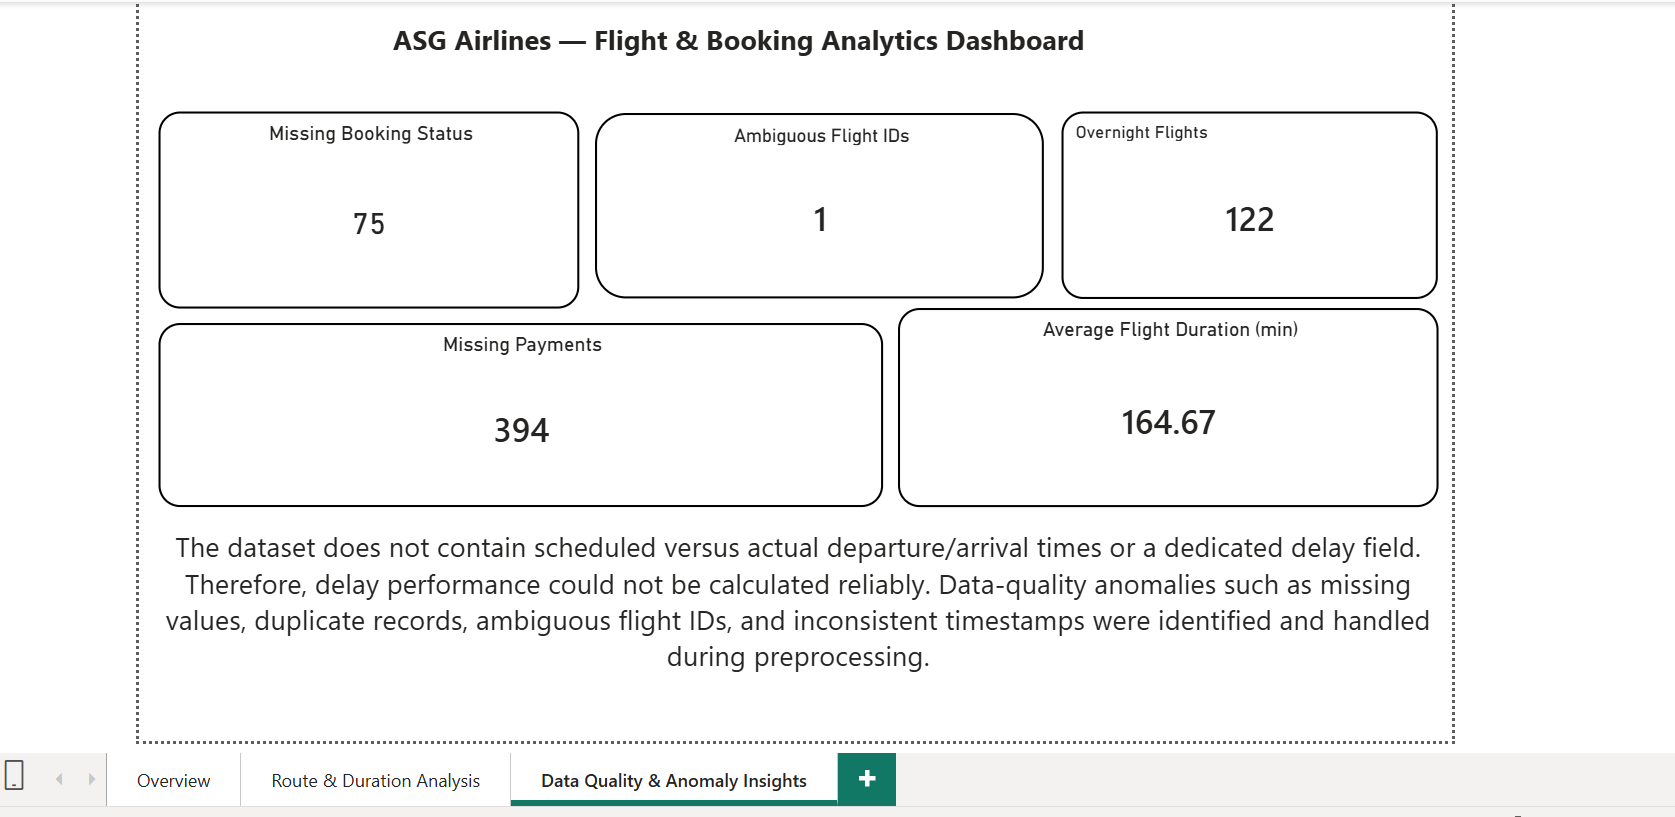

Layout of this report page (visuals, bound fields, positions):
{"tool":"powerbi","page":{"name":"Data Quality & Anomaly Insights","canvas":[1280,720],"ordinal":2},"visuals":[{"type":"card","title":"Missing Booking Status","fields":{"Values":["CountNonNull(fact_bookings.status)"]},"box":[19.4,106.6,410.2,192.2],"z":0},{"type":"cardVisual","title":"Ambiguous Flight IDs","fields":{"Data":["Count(dim_flights.ambiguous_flight_id)"]},"box":[444.1,108.2,437.6,180.9],"z":1000},{"type":"cardVisual","title":"Missing Payments","fields":{"Data":["CountNonNull(fact_bookings.payment_missing)"]},"box":[19.4,313.3,705.7,179.2],"z":2000},{"type":"cardVisual","title":"Average Flight Duration (min)","fields":{"Data":["Avg(dim_flights.duration_minutes)"]},"box":[739.6,298.7,526.4,193.8],"z":3000},{"type":"cardVisual","title":"Overnight Flights","fields":{"Data":["dim_flights.Overnight Flights"]},"box":[899.4,106.6,366.6,182.5],"z":4000},{"type":"textbox","box":[100.1,12.9,967.3,63],"z":9000},{"type":"textbox","box":[19.4,507,1246.6,179.2],"z":9001}]}

Visuals, with their boxes on the page's 1280x720 design canvas (x1, y1, x2, y2). These are canvas units, not pixel positions in the 1675x817 screenshot, which may show the page scaled, cropped or inside an application window:
"Missing Booking Status" card: <box>19,107,430,299</box>
"Ambiguous Flight IDs" cardVisual: <box>444,108,882,289</box>
"Missing Payments" cardVisual: <box>19,313,725,492</box>
"Average Flight Duration (min)" cardVisual: <box>740,299,1266,492</box>
"Overnight Flights" cardVisual: <box>899,107,1266,289</box>
textbox: <box>100,13,1067,76</box>
textbox: <box>19,507,1266,686</box>
